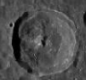crater: (3, 5, 82, 78)
